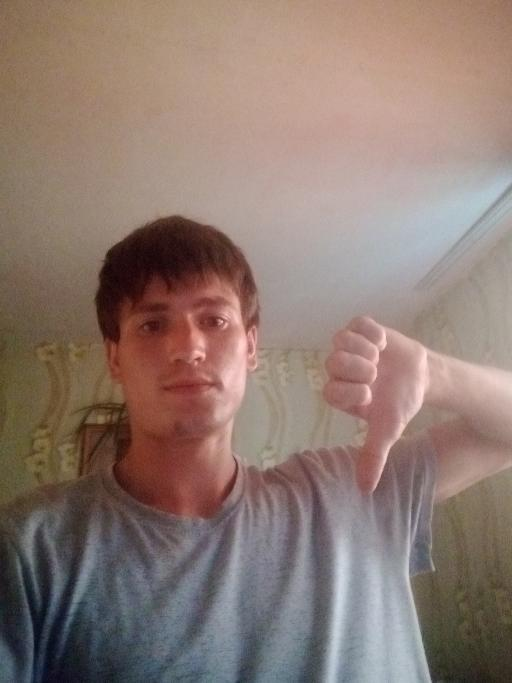dislike: (317, 311, 429, 497)
